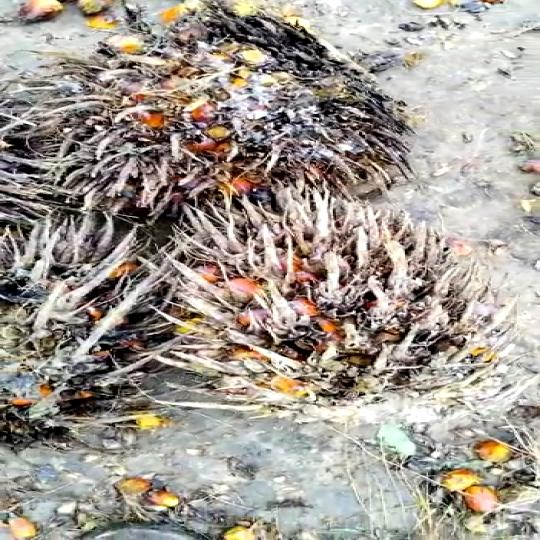terlalu masak: (130, 197, 516, 417), (6, 19, 428, 218)
